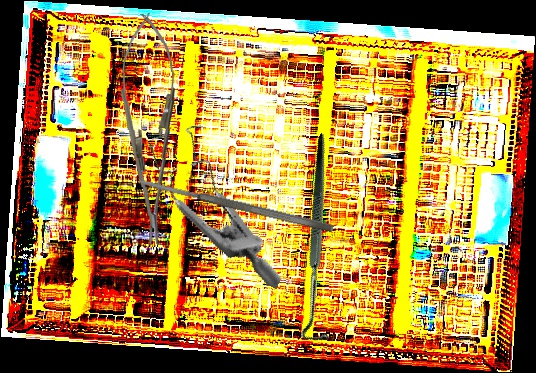Hook Surgical: (225, 132, 418, 350)
Needle Holder: (116, 12, 182, 247)
Spatula Surgical: (136, 174, 335, 235)
Speculum: (117, 110, 324, 289)
